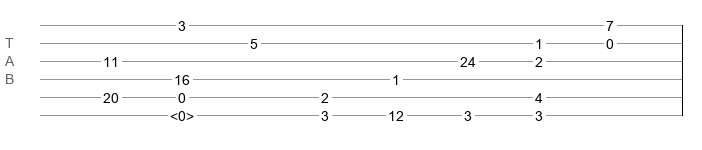0: (178, 90, 186, 100), (606, 36, 614, 46)
1: (392, 72, 400, 82), (535, 36, 543, 46)
11: (103, 54, 119, 64)
12: (388, 108, 404, 118)
16: (174, 72, 190, 82)
2: (321, 90, 329, 100), (535, 54, 543, 64)
20: (103, 90, 119, 100)
24: (460, 54, 476, 64)
3: (178, 18, 186, 28), (321, 108, 329, 118), (464, 108, 472, 118), (535, 108, 543, 118)
4: (535, 90, 543, 100)
5: (250, 36, 258, 46)
7: (606, 18, 614, 28)
harmonic: (170, 108, 194, 118)
